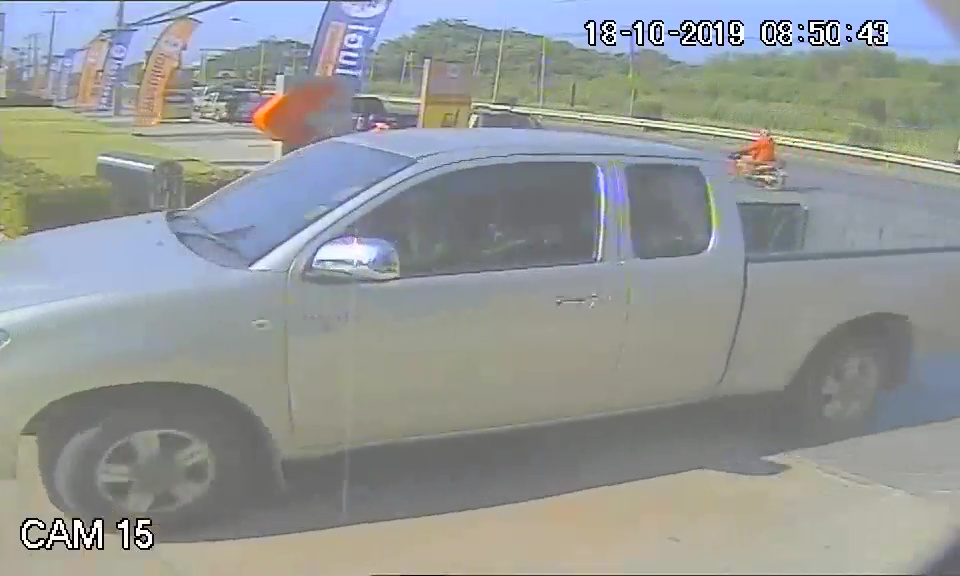pickup: (7, 122, 741, 482)
